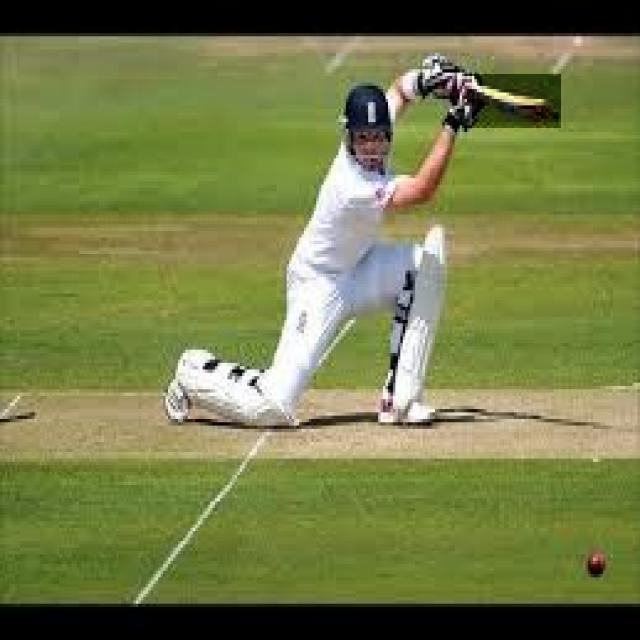bat: (460, 73, 564, 130)
